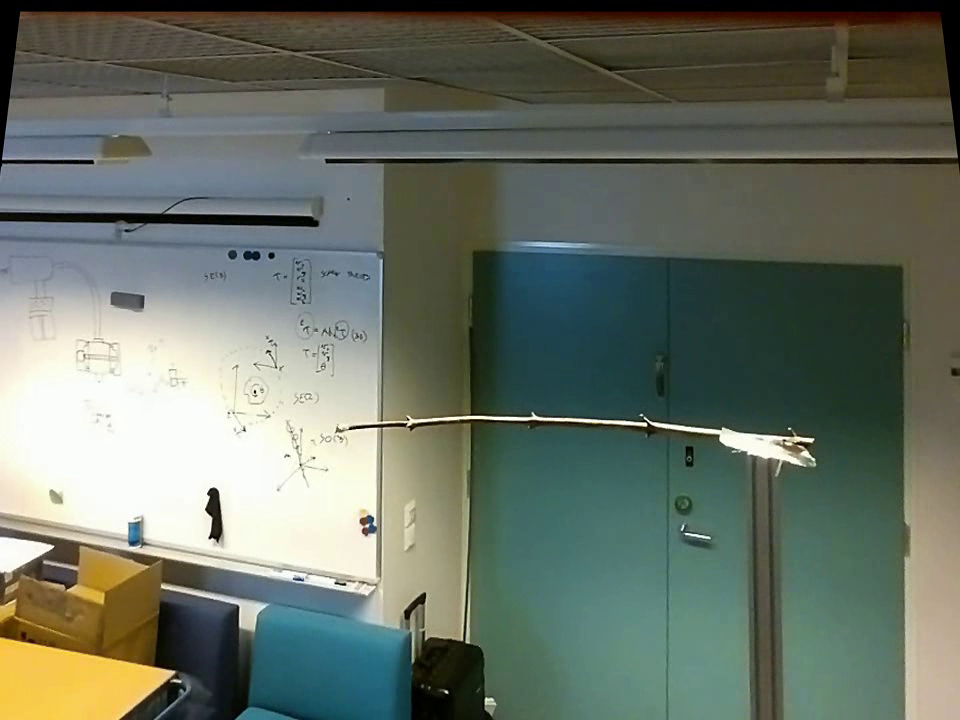aluminum_frame: (2, 511, 380, 598), (737, 448, 792, 716), (2, 229, 384, 263), (372, 247, 388, 595)
branch: (351, 405, 715, 446)
